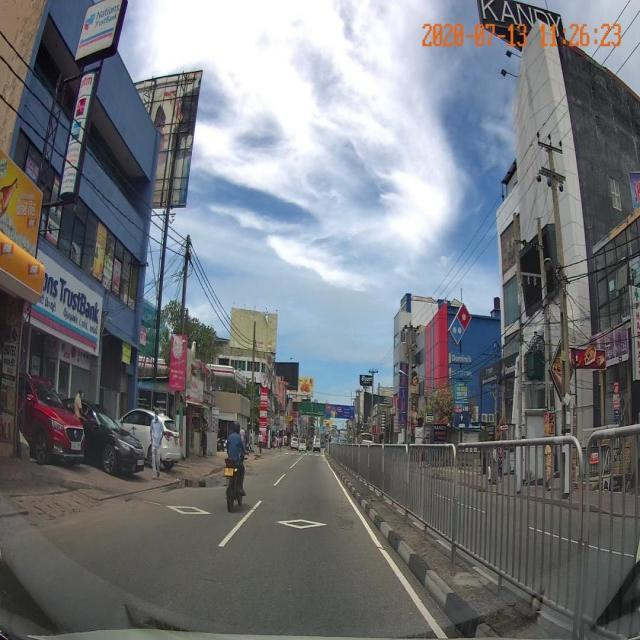Liniya 1: (326, 460, 449, 638), (217, 500, 263, 548), (272, 474, 286, 487), (289, 457, 303, 469)
Romb: (275, 514, 324, 532), (168, 503, 209, 517)
